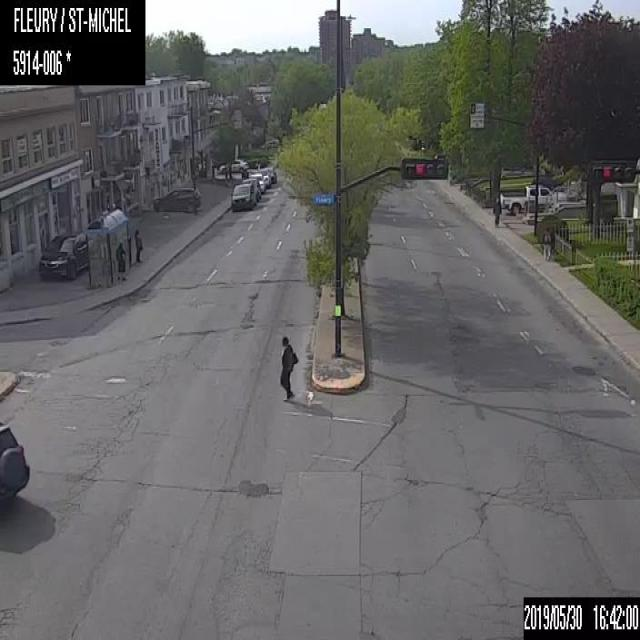pedestrian: (278, 335, 297, 404), (541, 224, 553, 265), (115, 240, 126, 279), (492, 196, 502, 227), (133, 228, 141, 264)
vehicle: (38, 227, 89, 279), (0, 420, 30, 504), (501, 181, 566, 215), (152, 184, 201, 213), (230, 178, 255, 211), (248, 170, 266, 192), (220, 158, 247, 172), (261, 166, 276, 182), (259, 169, 271, 188)
